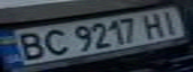1: (106, 17, 127, 45)
2: (90, 20, 112, 50)
7: (118, 15, 142, 43)
9: (69, 23, 97, 53)
B: (9, 29, 51, 61)
C: (36, 26, 72, 57)
H: (139, 11, 169, 38)
I: (154, 9, 184, 35)
